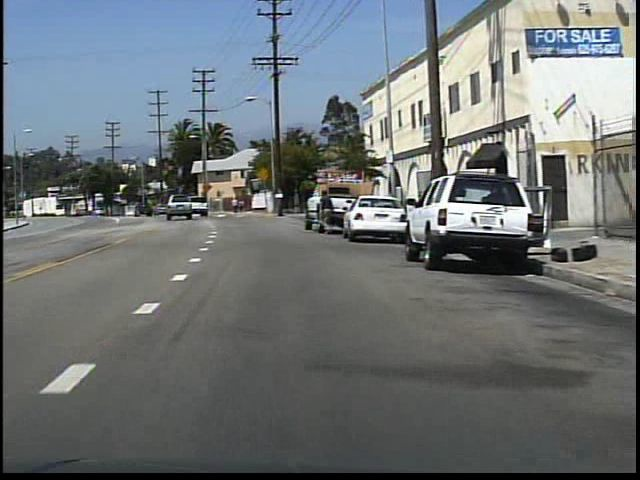person: (314, 184, 336, 240), (230, 197, 240, 217), (238, 198, 247, 215)
